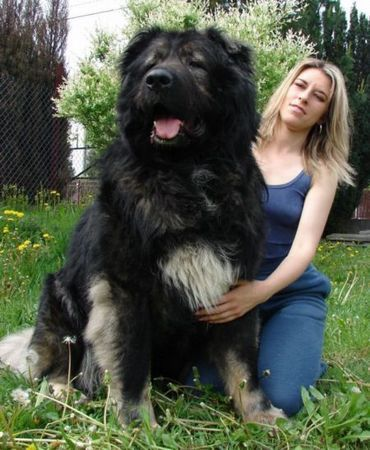cau_ovcharka: (1, 26, 287, 431)
human_face: (280, 70, 332, 131)
person: (194, 57, 355, 417)
